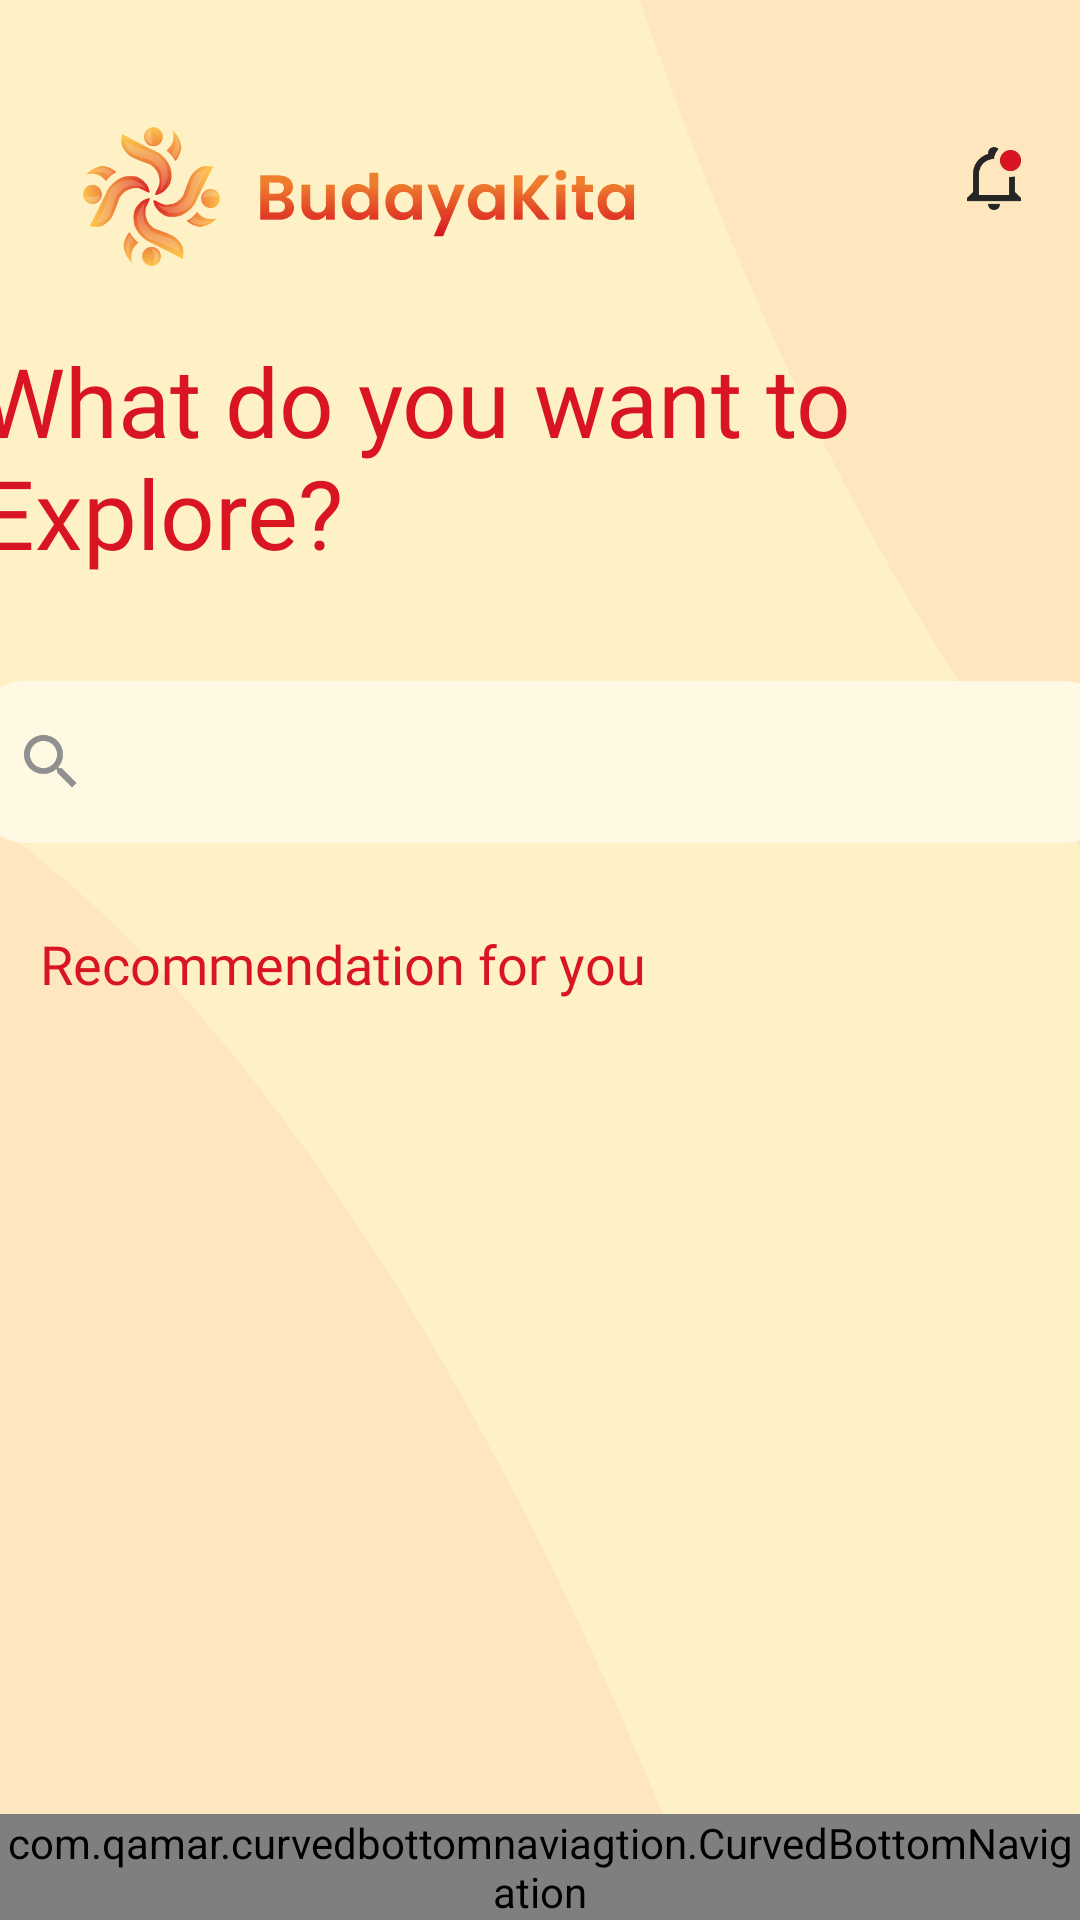

Where icons sit on this 1080×1920 app screen, as bbox(x1, y1, x2, y2):
notifkasi icon: bbox(967, 147, 1021, 210)
